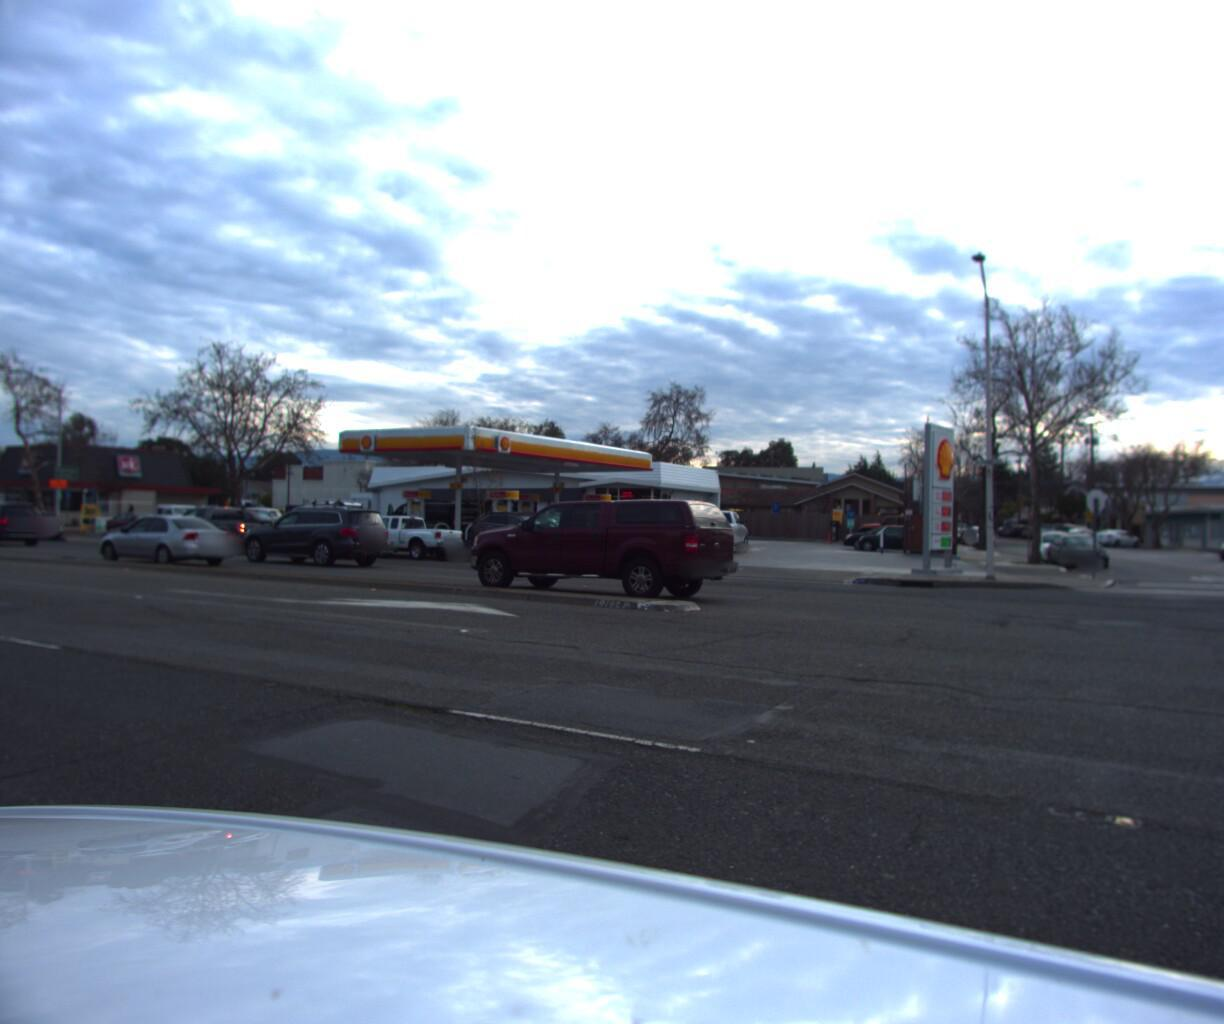car: (458, 494, 743, 604), (235, 498, 395, 570), (89, 516, 239, 571), (339, 514, 468, 565), (155, 509, 289, 557), (461, 510, 579, 554), (374, 503, 485, 543), (678, 508, 751, 556), (1038, 527, 1114, 570), (836, 522, 932, 552), (849, 513, 932, 547), (1019, 526, 1085, 564), (0, 511, 69, 547), (848, 522, 934, 550), (101, 513, 179, 542), (0, 504, 49, 549), (151, 506, 215, 539), (236, 506, 305, 536), (1088, 525, 1139, 544), (961, 524, 995, 547), (1045, 522, 1089, 538), (1209, 532, 1224, 559)
